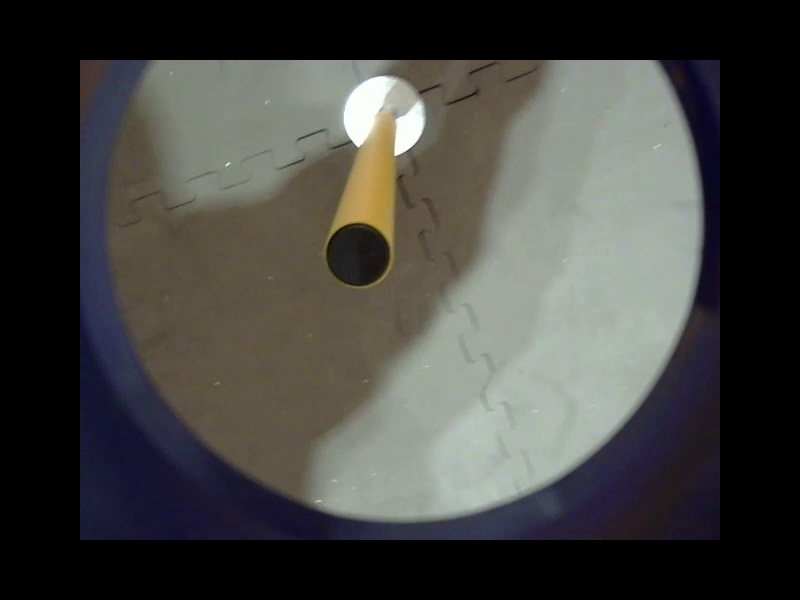tip: (319, 211, 402, 293)
